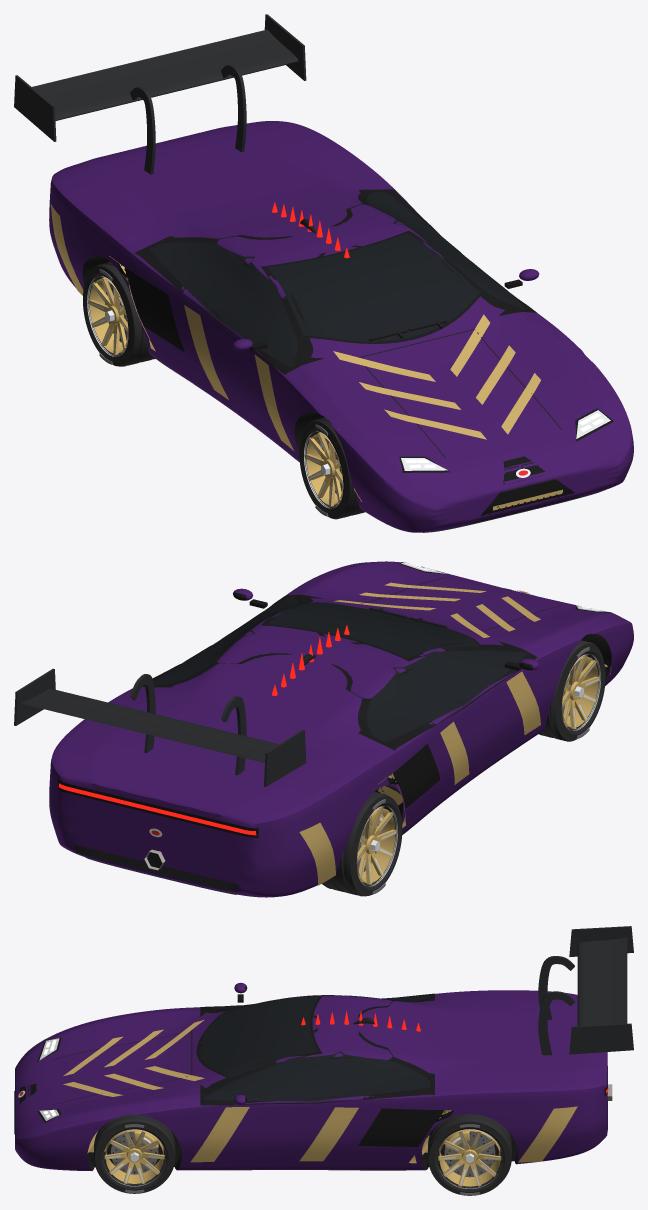
The model's file is shogun.glb.
3 views of the same model, one above another, from view 1: azimuth 30°, elevation 25°; view 2: azimuth 150°, elevation 25°; view 3: azimuth 270°, elevation 25° (orthographic). The views are drawn at different scales.
Parts seen in each view (by area): view 1: Body, Wheel_RR, Wheel_FR; view 2: Body, Wheel_RR, Wheel_FR; view 3: Body, Wheel_RL, Wheel_FL.
Part boxes in pixels (x1,y1,x2,y2): Body: (14,14,633,532); Wheel_RR: (83,262,155,366); Wheel_FR: (299,417,364,519); Body: (14,561,633,897); Wheel_RR: (322,792,402,896); Wheel_FR: (539,640,605,741); Body: (14,926,633,1170); Wheel_RL: (428,1114,511,1195); Wheel_FL: (94,1114,175,1193).
Size of the model in its own units: 2.35 by 1.57 by 5.18.
